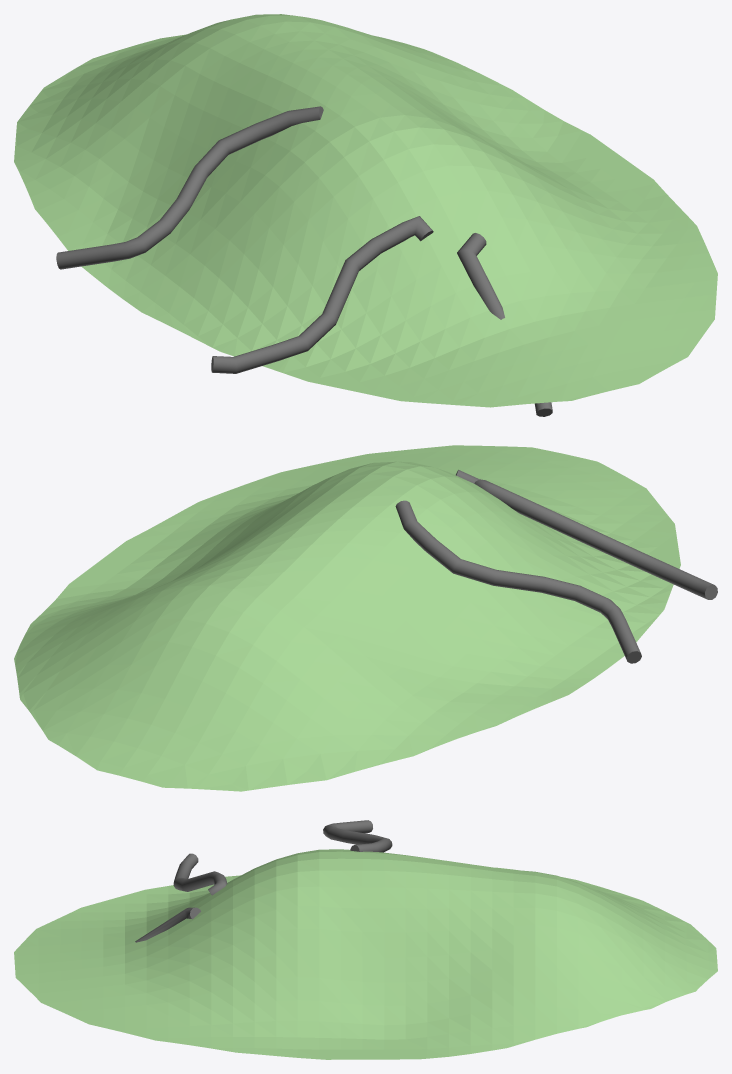
The model's file is Fac.glb.
3 renders of one model, top to bottom at view 1: azimuth 30°, elevation 25°; view 2: azimuth 150°, elevation 25°; view 3: azimuth 270°, elevation 25°, orthographic. The views are drawn at different scales.
Size of the model in its own units: 2.28 by 0.6931 by 3.26.
